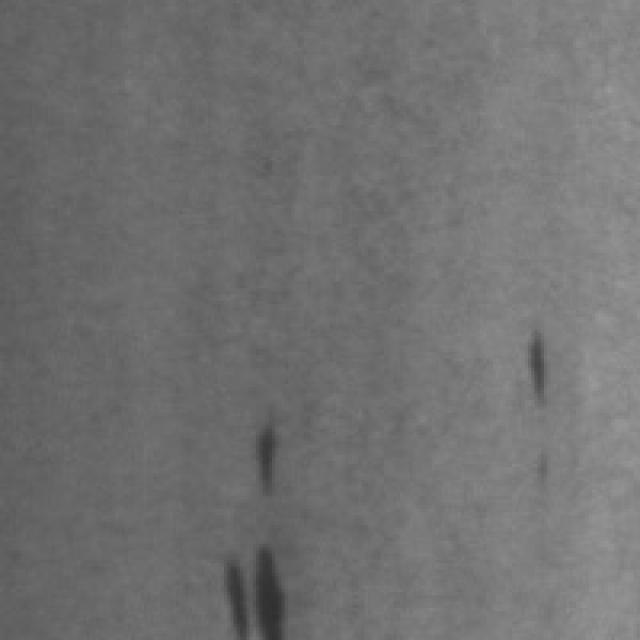inclusion: (221, 528, 304, 634), (518, 310, 570, 420), (250, 406, 298, 496)
